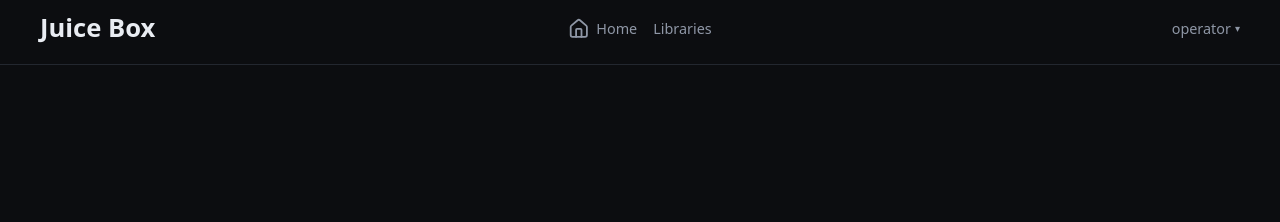
Test: AppHeader feature gating › shows the Playlists and Collections links when the flags are advertised
Click the button with test id "user-menu-toggle" at {"x": 1206, "y": 28}, box [1172,18,1240,39]
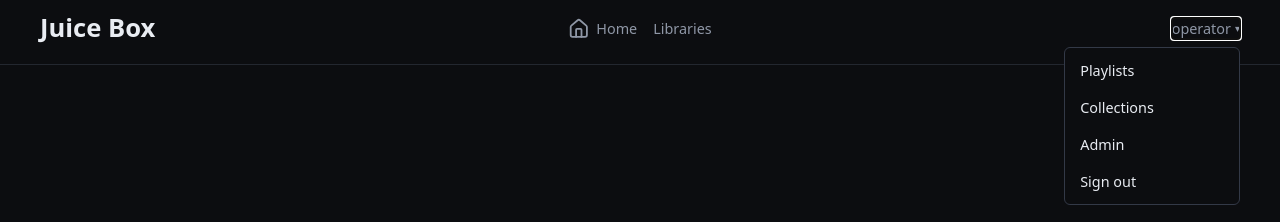
Check: the menu item with test id "nav-playlists" is shown, box [1080,61,1134,80]
Check: the menu item with test id "nav-collections" is shown, box [1080,98,1154,117]
